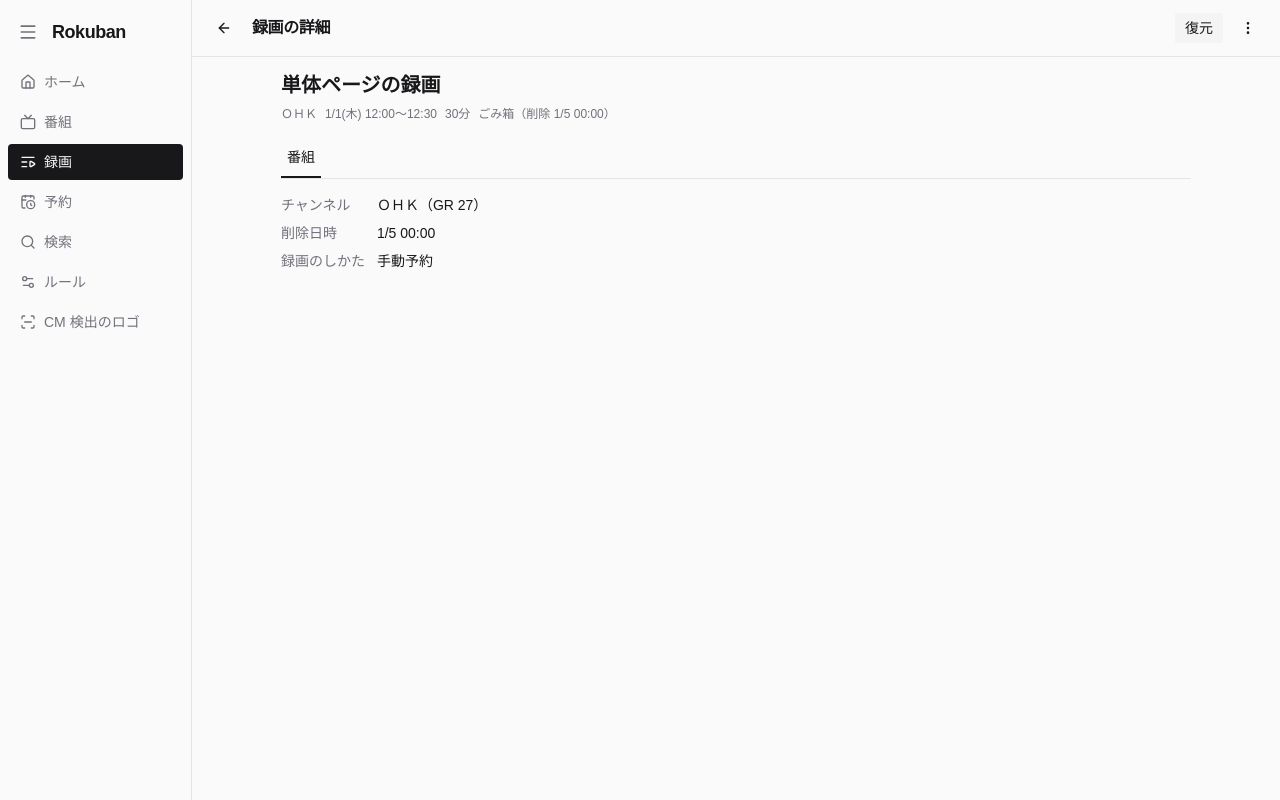
Test: RecordingDetailPage › ごみ箱では番組タブと復元だけを出し、完全削除は確認付きメニューに置く
Expected: the button "復元" is shown, [1174,12,1224,44]
Expected: the tabs read "番組", in this order, [281,138,321,178]
Click the button named "録画のその他の操作": (1248, 28) [1232,12,1264,44]
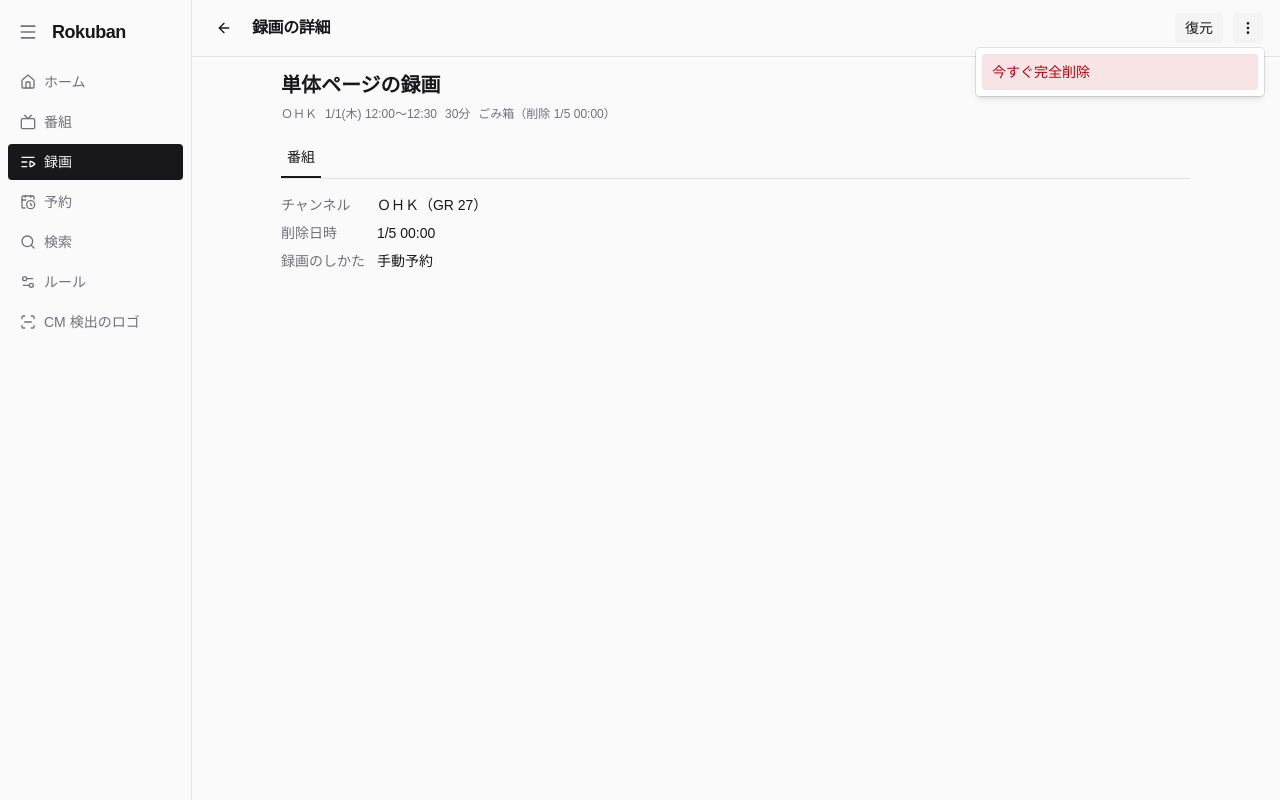
Expected: the menu item "今すぐ完全削除" is shown, [982,54,1258,90]
